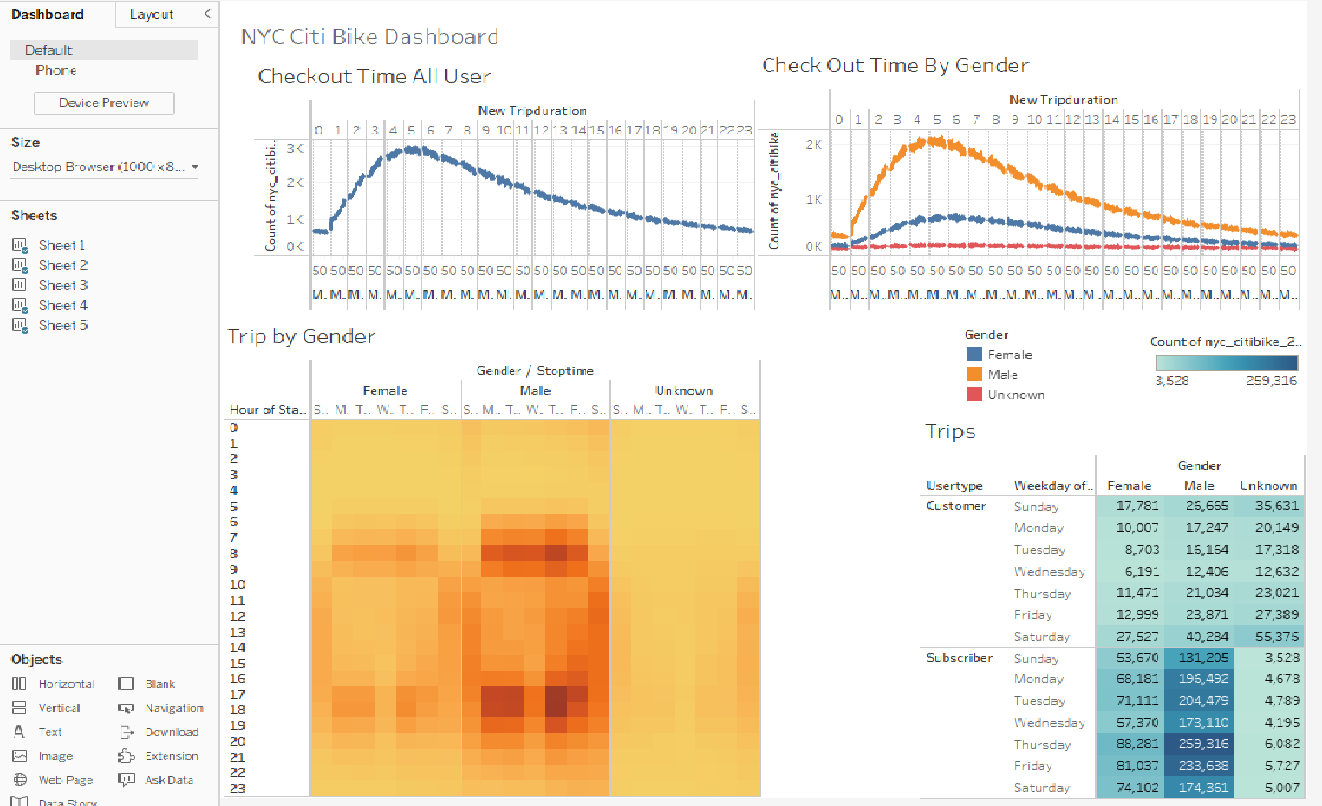

What the dashboard file says about the page in this screenshot:
{"tool":"tableau","page":{"name":"Dashboard 1","canvas":[1000,800],"ordinal":0},"visuals":[{"type":"text","box":[16,13,253,43]},{"type":"worksheet","title":"Sheet 2","mark":"Automatic","rows":["nyc_citibike_2.csv_3D3B83E4080B4BC6802D5071F5079439"],"cols":["new_tripduration","new_tripduration"],"box":[494,45,498,266]},{"type":"worksheet","title":"Sheet 1","mark":"Automatic","rows":["nyc_citibike_2.csv_3D3B83E4080B4BC6802D5071F5079439"],"cols":["new_tripduration","new_tripduration"],"box":[31,56,461,255]},{"type":"worksheet","title":"Sheet 5","mark":"Automatic","rows":["starttime"],"cols":["gender","stoptime"],"box":[3,317,494,482]},{"type":"legend","title":"Sheet 2","param":"[federated.0g1bdbp04p9upg10586970s20wvx].[none:gender:nk]","box":[684,326,140,78]},{"type":"legend","title":"Sheet 4","param":"[federated.0g1bdbp04p9upg10586970s20wvx].[__tableau_internal_object_id__].[cnt:n","box":[855,333,140,76]},{"type":"worksheet","title":"Sheet 4","mark":"Square","rows":["usertype","starttime"],"cols":["gender"],"box":[644,413,353,388]}]}

Visuals, with their boxes on the page's 1000x800 design canvas (x1, y1, x2, y2). These are canvas units, not pixel positions in the 1322x806 screenshot, which may show the page scaled, cropped or inside an application window:
text: 16,13,269,56
"Sheet 2" worksheet: 494,45,992,311
"Sheet 1" worksheet: 31,56,492,311
"Sheet 5" worksheet: 3,317,497,799
"Sheet 2" legend: 684,326,824,404
"Sheet 4" legend: 855,333,995,409
"Sheet 4" worksheet (Square marks): 644,413,997,801
